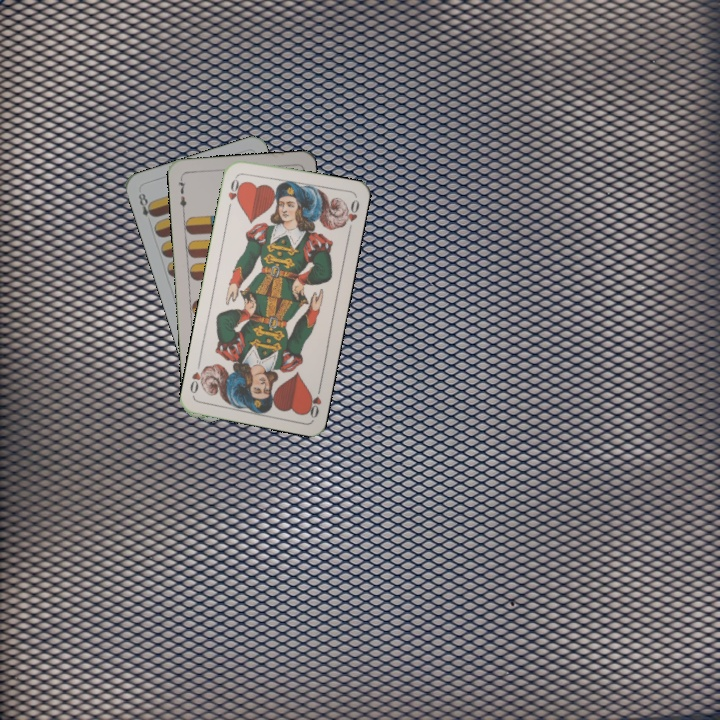E7: (174, 174, 189, 214)
E8: (134, 189, 158, 227)
HO: (303, 380, 324, 421), (224, 172, 244, 212)
